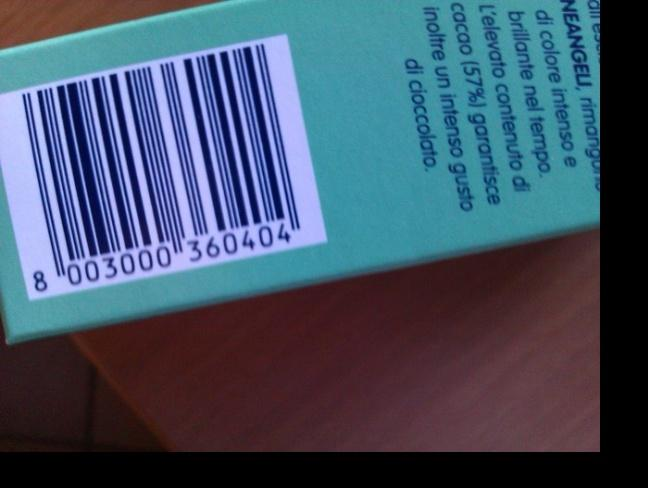Barcode: (15, 35, 305, 298)
